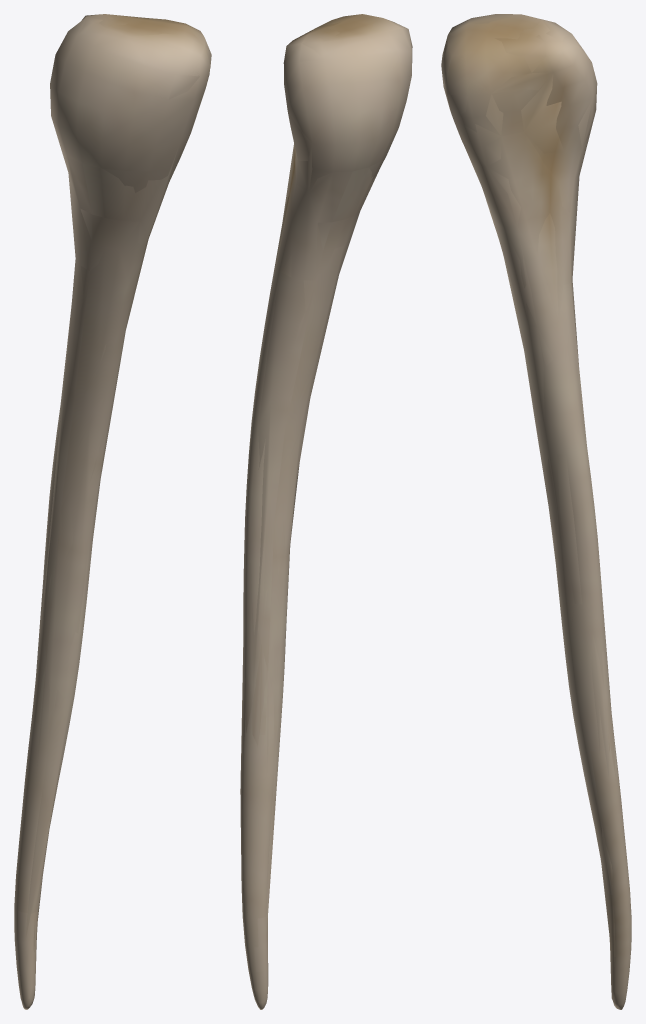
File: L metacarpi secundum.fbx
3 renders of one model, left to right at view 1: azimuth 90°, elevation 25°; view 2: azimuth 150°, elevation 25°; view 3: azimuth 270°, elevation 25°, orthographic. The views are drawn at different scales.
Visible parts, largest first — view 1: L metacarpi secundum low, L metacarpi secundum; view 2: L metacarpi secundum, L metacarpi secundum low; view 3: L metacarpi secundum, L metacarpi secundum low.
Part boxes in pixels (box(x1,y1,x2,y2)): L metacarpi secundum low: box(25, 14, 211, 958); L metacarpi secundum: box(14, 14, 211, 1009); L metacarpi secundum: box(240, 14, 412, 1009); L metacarpi secundum low: box(240, 18, 412, 941); L metacarpi secundum: box(441, 14, 631, 1009); L metacarpi secundum low: box(441, 14, 630, 966).
Size of the model in its own units: 2.71 by 20.65 by 3.68.
1 material, 1 textured.
